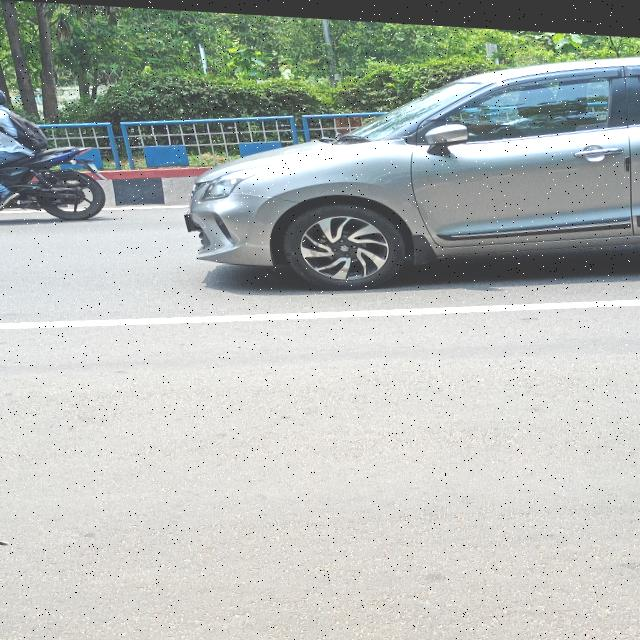car: (181, 50, 640, 285)
